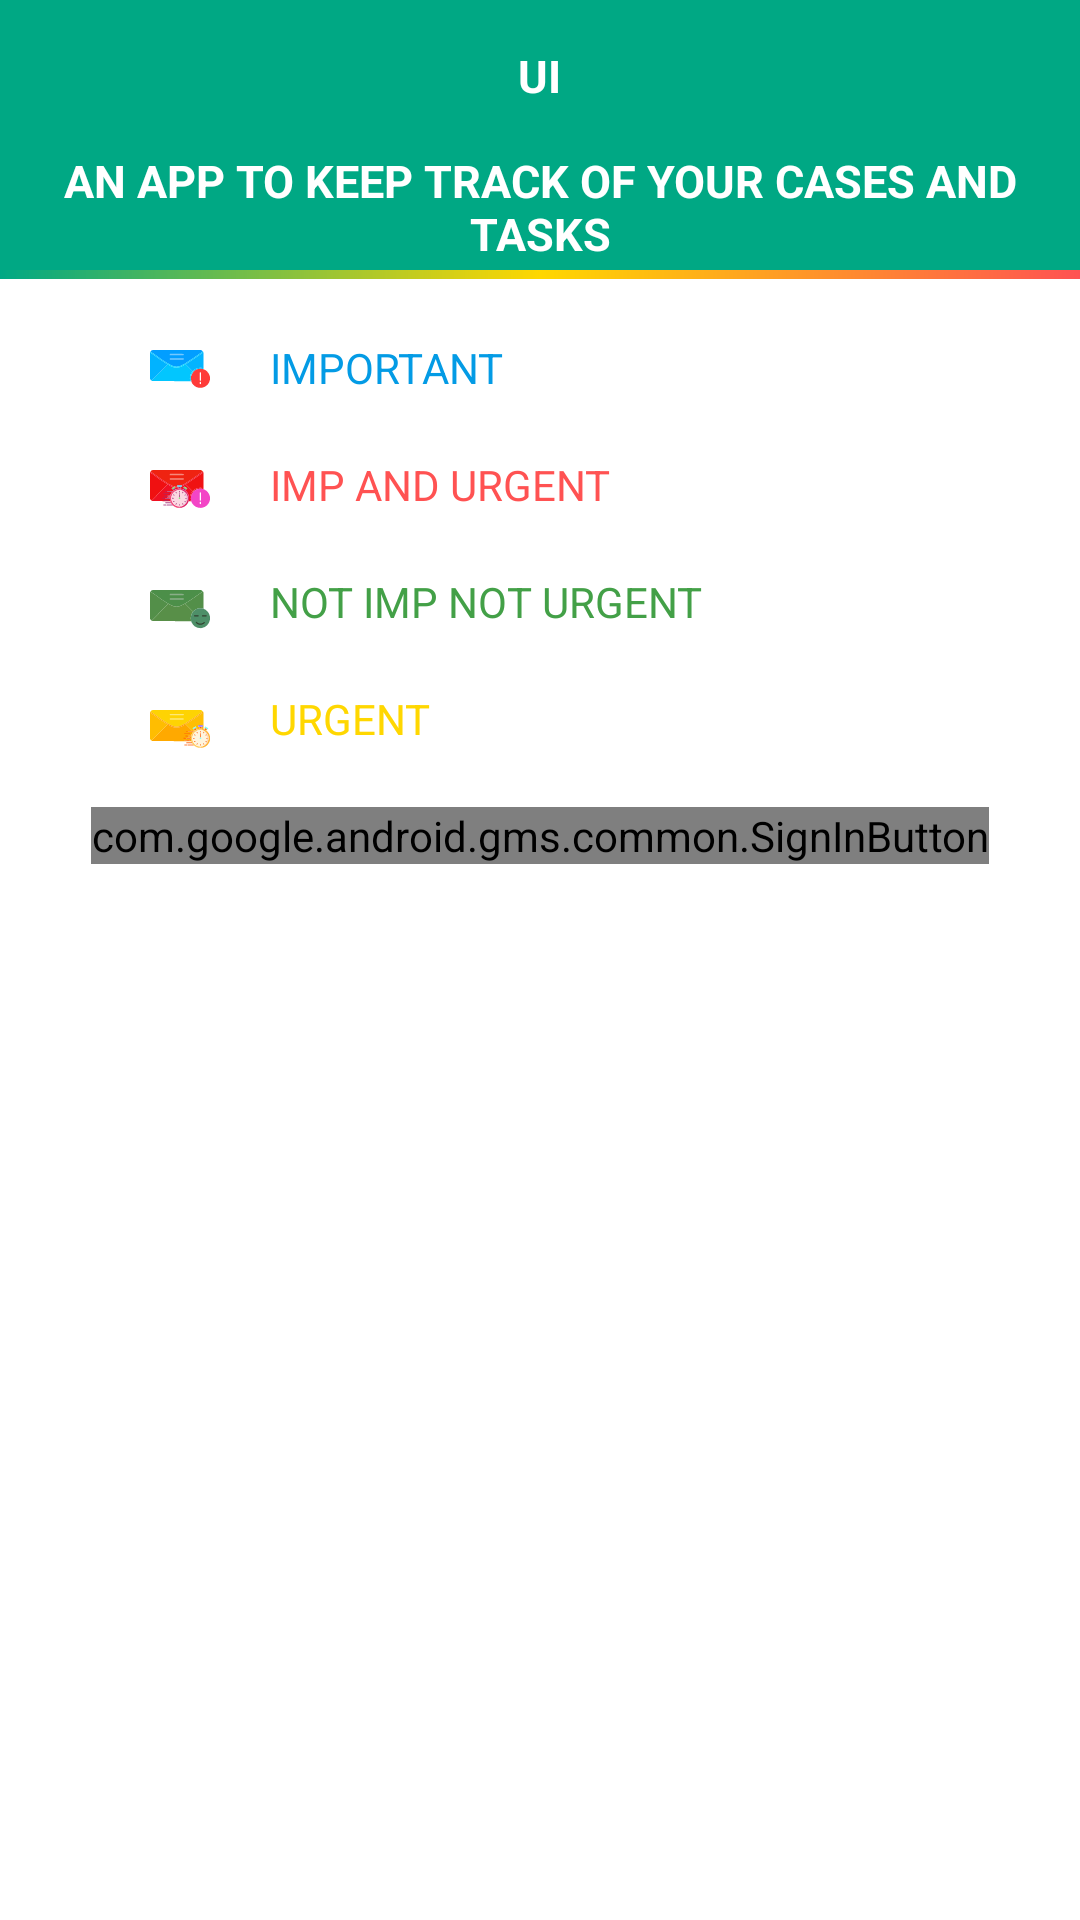

Named icons in this screenshot (1080x1920) and their bounding boxes, box(x1, y1, x2, y2):
relax urg: box(150, 590, 210, 628)
